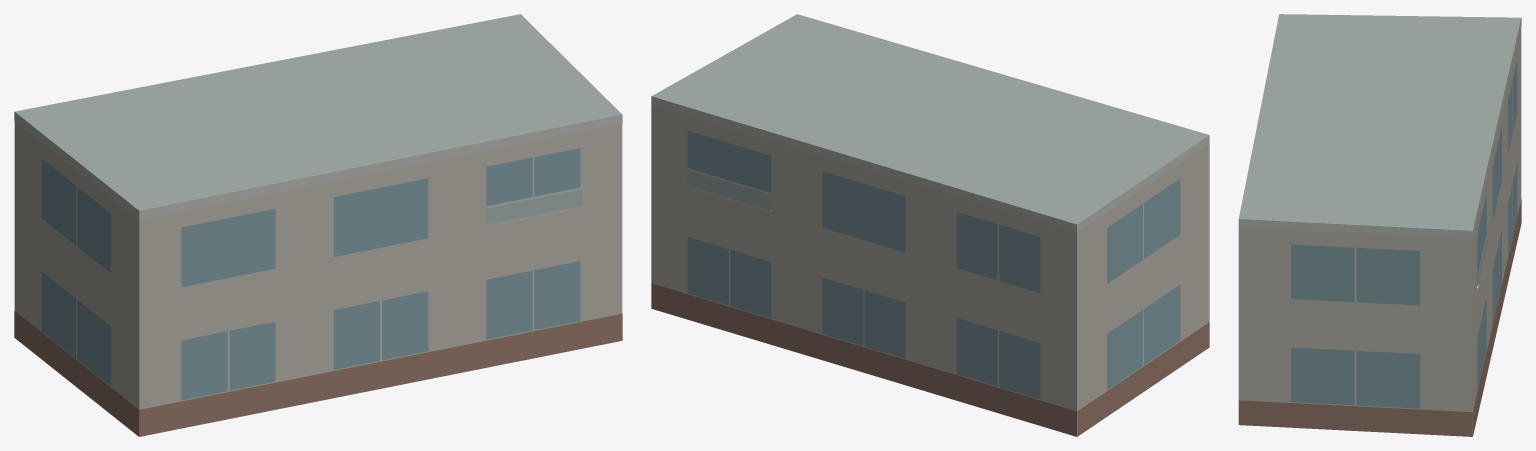
Rendered from survey-upis-32755837.glb.
3 views of the same model, side by side, from view 1: azimuth 30°, elevation 25°; view 2: azimuth 150°, elevation 25°; view 3: azimuth 270°, elevation 25° (orthographic). The views are drawn at different scales.
Parts seen in each view (by area): view 1: survey-upis-32755837.tmp; view 2: survey-upis-32755837.tmp; view 3: survey-upis-32755837.tmp.
Part boxes in pixels (x1,y1,x2,y2): survey-upis-32755837.tmp: (14,14,622,436); survey-upis-32755837.tmp: (651,14,1209,436); survey-upis-32755837.tmp: (1238,14,1521,436).
Size of the model in its own units: 13.79 by 6.1 by 7.6.
